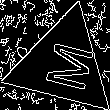M_W: (33, 35, 93, 93)
